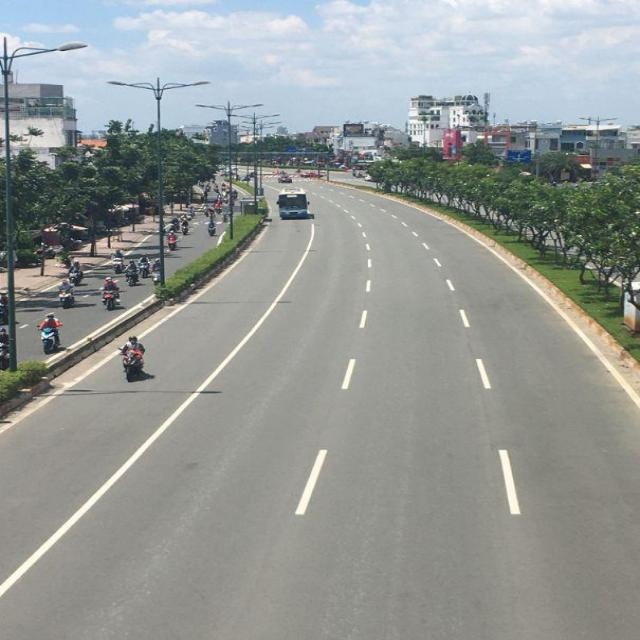bus: (279, 191, 310, 221)
motorcycle: (40, 322, 63, 353)
